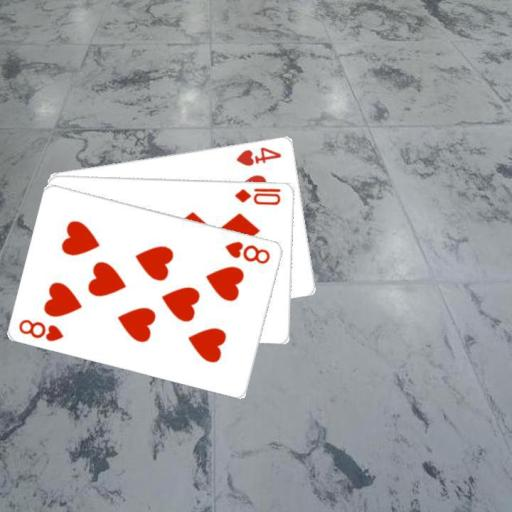10D: (232, 184, 282, 206)
4H: (233, 143, 283, 167)
8H: (222, 238, 272, 265), (16, 316, 66, 343)
